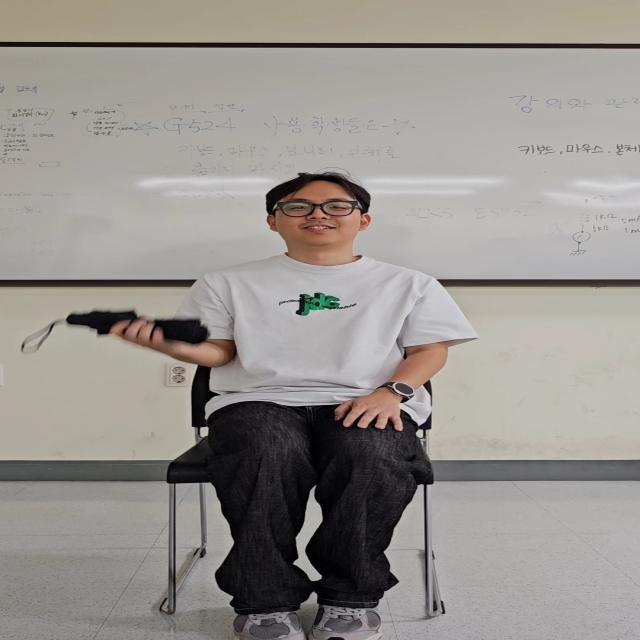curl: (75, 252, 242, 380)
